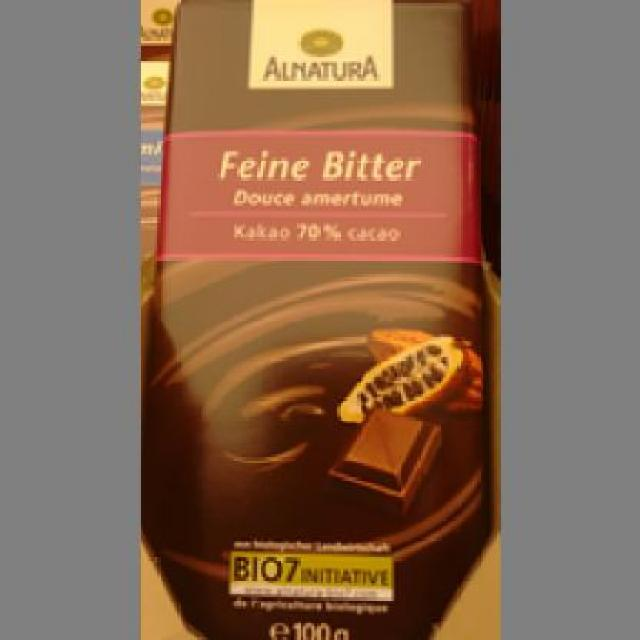Chocolate: (151, 0, 480, 637)
